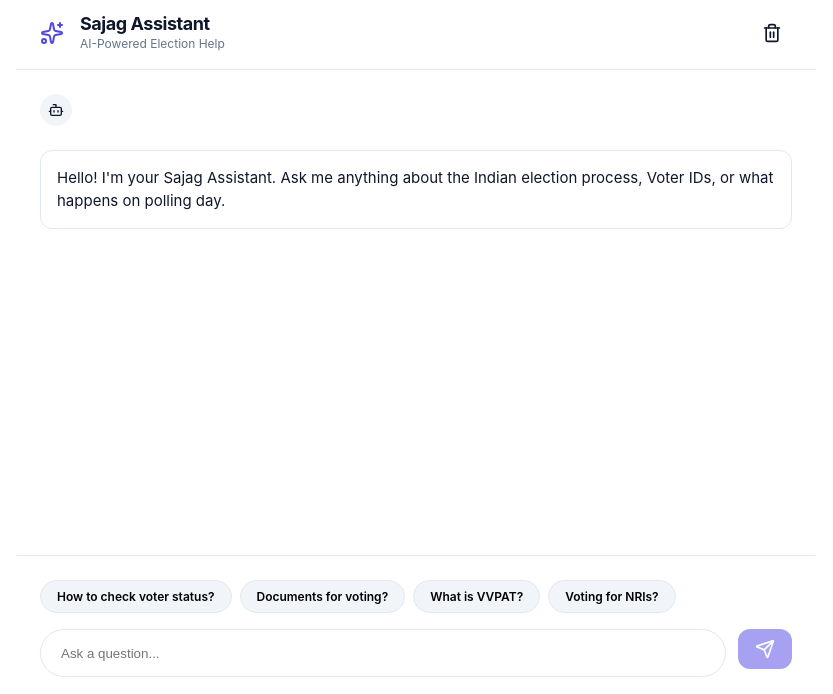
Test case: Assistant Flow Integration › completes the full flow: ask question -> get response
The width and height of the screenshot is (833, 694).
Type "How do I register to vote?" into the field with placeholder "Ask a question..." at [383, 653], box top-left (40, 629), bottom-right (726, 677)
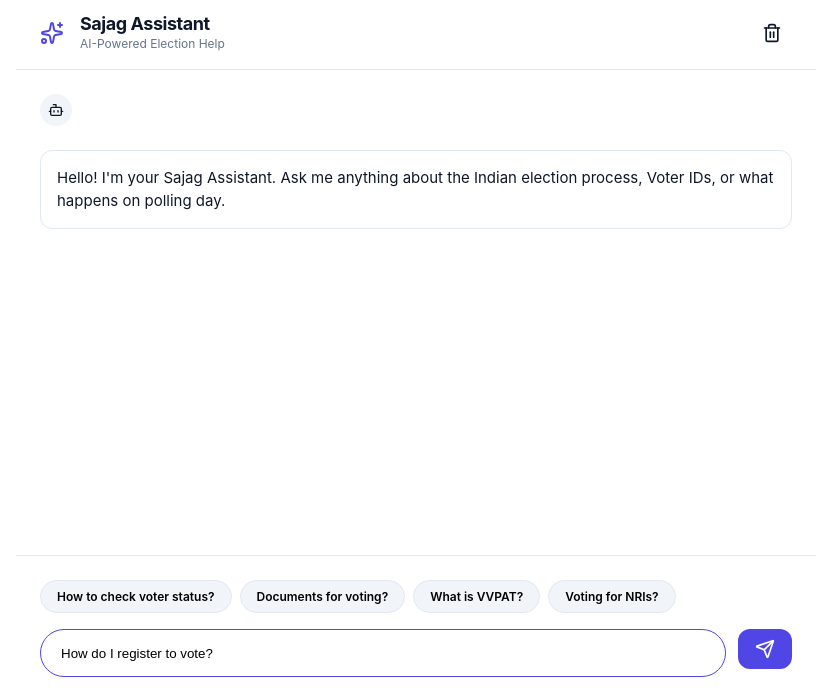
Press Enter in the field with placeholder "Ask a question...", box top-left (40, 629), bottom-right (726, 677)
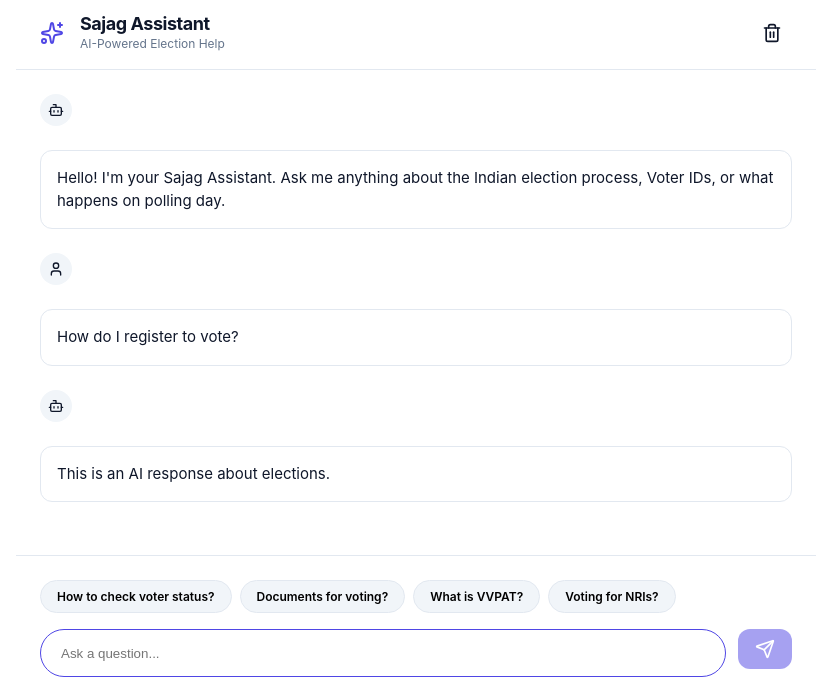
Result: the text "How do I register to vote?" is shown at top-left (40, 309), bottom-right (792, 366)
Result: the text "This is an AI response about elections." is shown at top-left (40, 446), bottom-right (792, 502)
